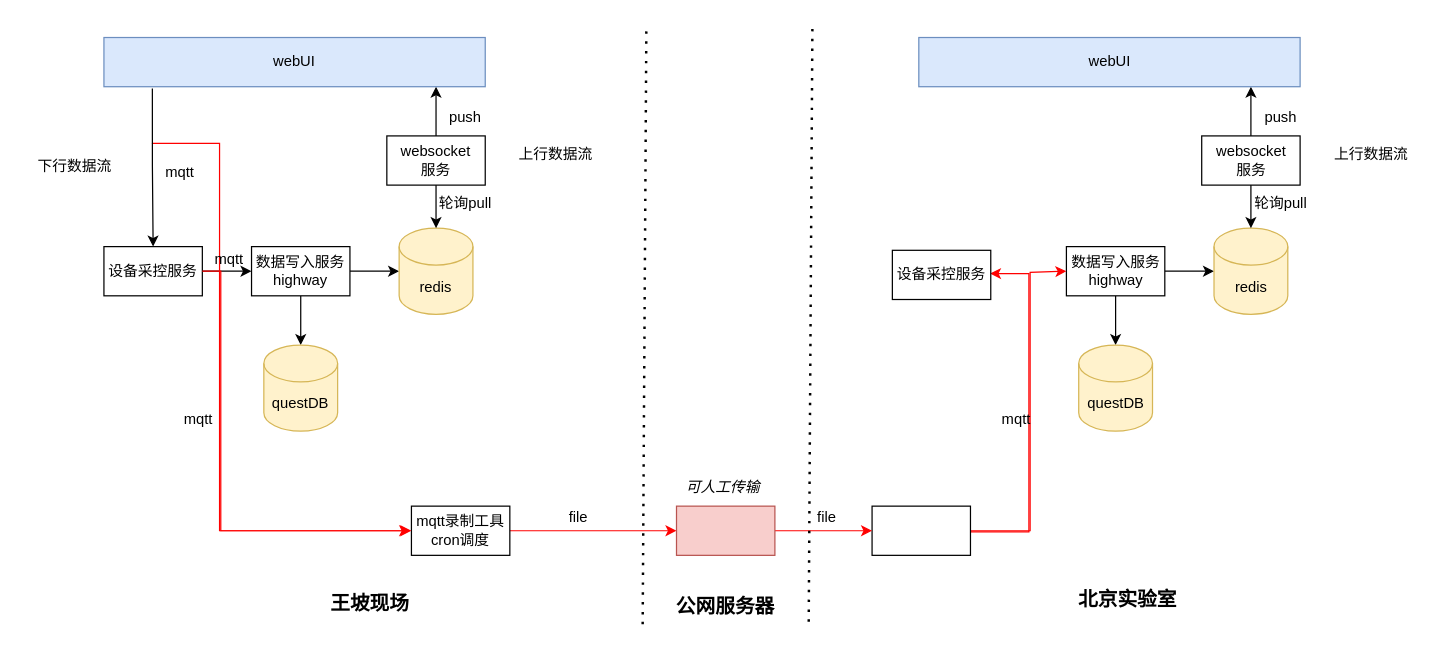
Some shapes in this 1445 by 647 pixel diagram are drawn without their labels. The shapes that lost their labels are listed below. From the top down, each one's box as (x1, y1, x2, y2) in pixels, then its label:
(675, 505, 775, 555): rsync服务 断点续传
(871, 505, 970, 555): mqtt回放工具 cron调度
